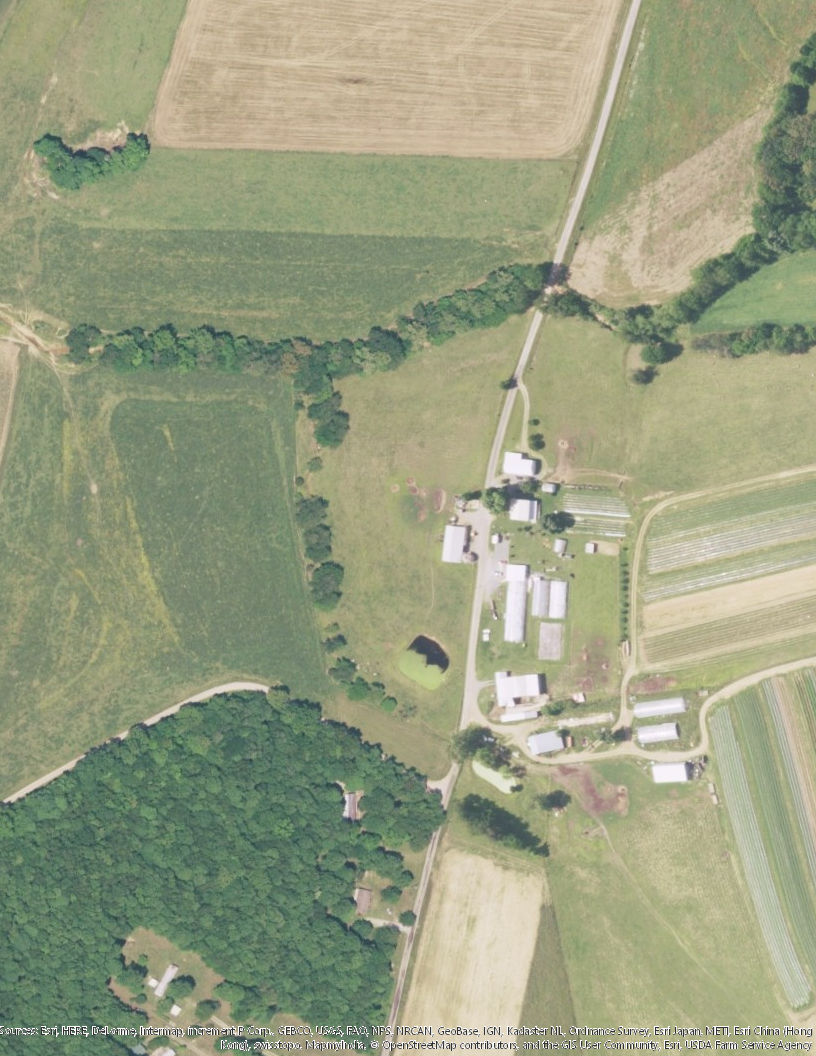cafo: (499, 557, 572, 639)
